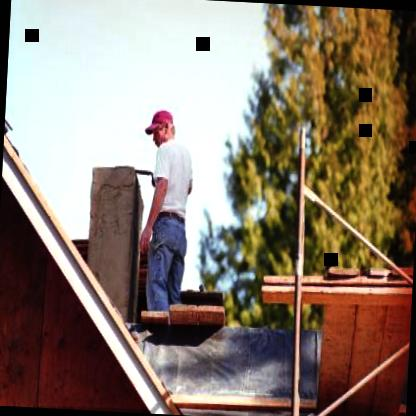helmet: (144, 104, 177, 151)
